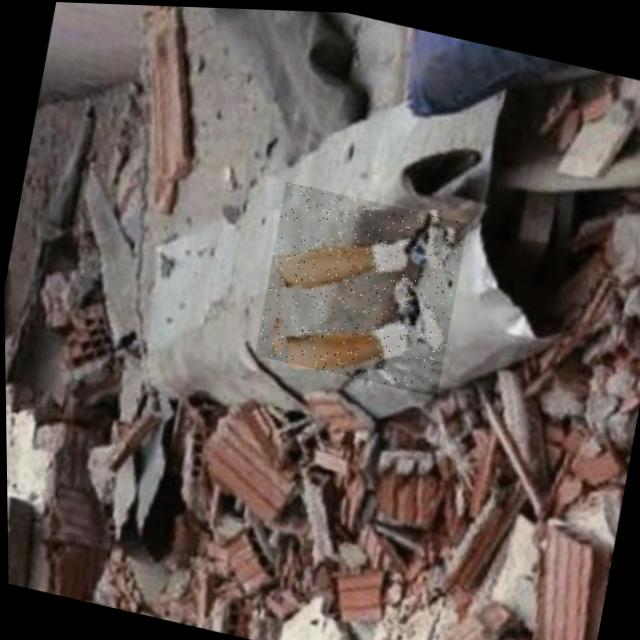Person in Rubble: (251, 178, 470, 394)
